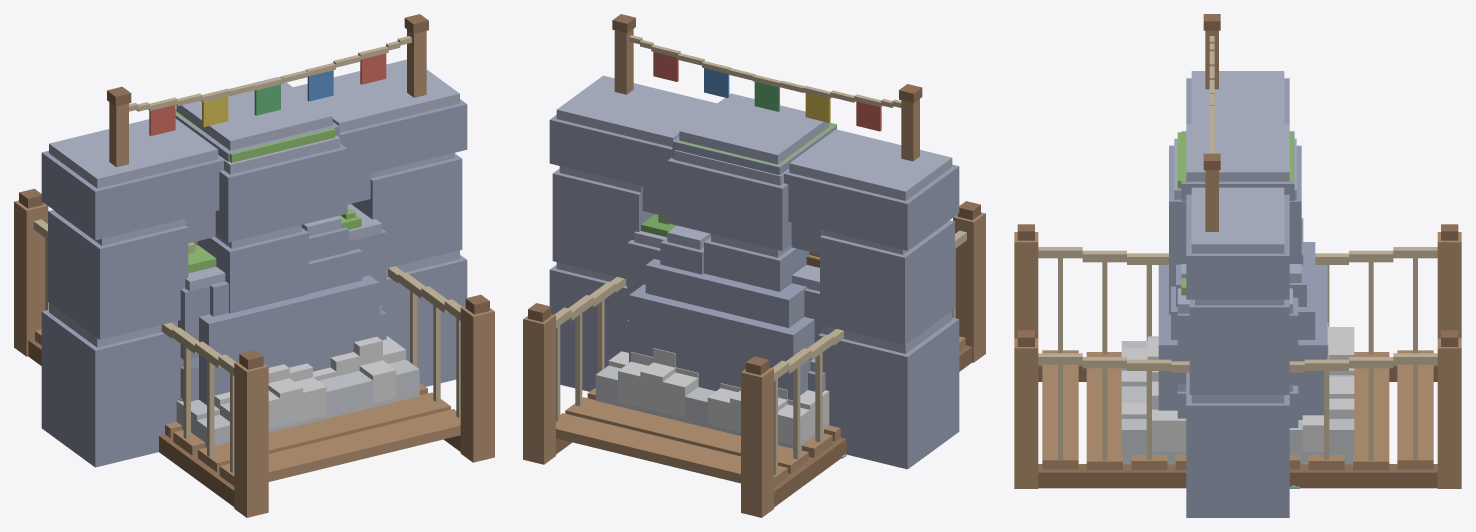
Rendered from windswept_cliffs_kit_roblox.glb.
The picture shows the model from 3 angles, left to right: view 1: azimuth 30°, elevation 25°; view 2: azimuth 150°, elevation 25°; view 3: azimuth 270°, elevation 25°; orthographic projection. The views are drawn at different scales.
Visible parts, largest first — view 1: StoneGate, Bridge, CornerPillar, Boulder, CloudGap, RimWall; view 2: StoneGate, Bridge, Boulder, CornerPillar, CloudGap, RimWall; view 3: StoneGate, Bridge, CloudGap, Boulder, CornerPillar, RimWall.
Boxes of the visible parts, bbox=[...] form: StoneGate: bbox=[41, 14, 467, 467]; Bridge: bbox=[14, 188, 494, 517]; CornerPillar: bbox=[175, 110, 348, 313]; Boulder: bbox=[179, 249, 379, 404]; CloudGap: bbox=[176, 336, 419, 447]; RimWall: bbox=[178, 204, 386, 401]; StoneGate: bbox=[549, 14, 959, 469]; Bridge: bbox=[523, 201, 985, 517]; Boulder: bbox=[629, 259, 814, 400]; CornerPillar: bbox=[660, 122, 836, 291]; CloudGap: bbox=[595, 348, 829, 450]; RimWall: bbox=[627, 214, 828, 391]; StoneGate: bbox=[1181, 14, 1294, 517]; Bridge: bbox=[1014, 224, 1461, 488]; CloudGap: bbox=[1121, 322, 1354, 464]; Boulder: bbox=[1158, 242, 1327, 419]; CornerPillar: bbox=[1169, 132, 1306, 314]; RimWall: bbox=[1177, 278, 1298, 427].
Bounding box in the file's own units: 2.4 × 2.2 × 2.6.
